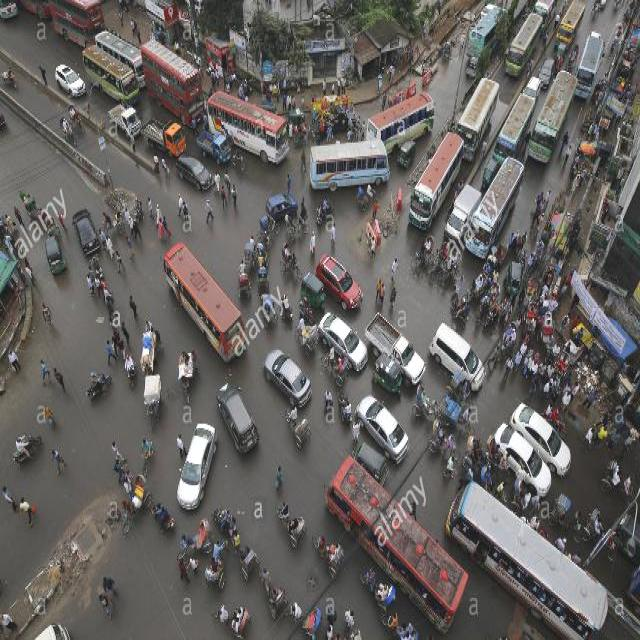BUS: (460, 479, 602, 640), (344, 452, 450, 634), (163, 243, 259, 367), (205, 96, 289, 169), (403, 132, 465, 230), (141, 45, 206, 125), (308, 138, 392, 190), (27, 0, 105, 45)
